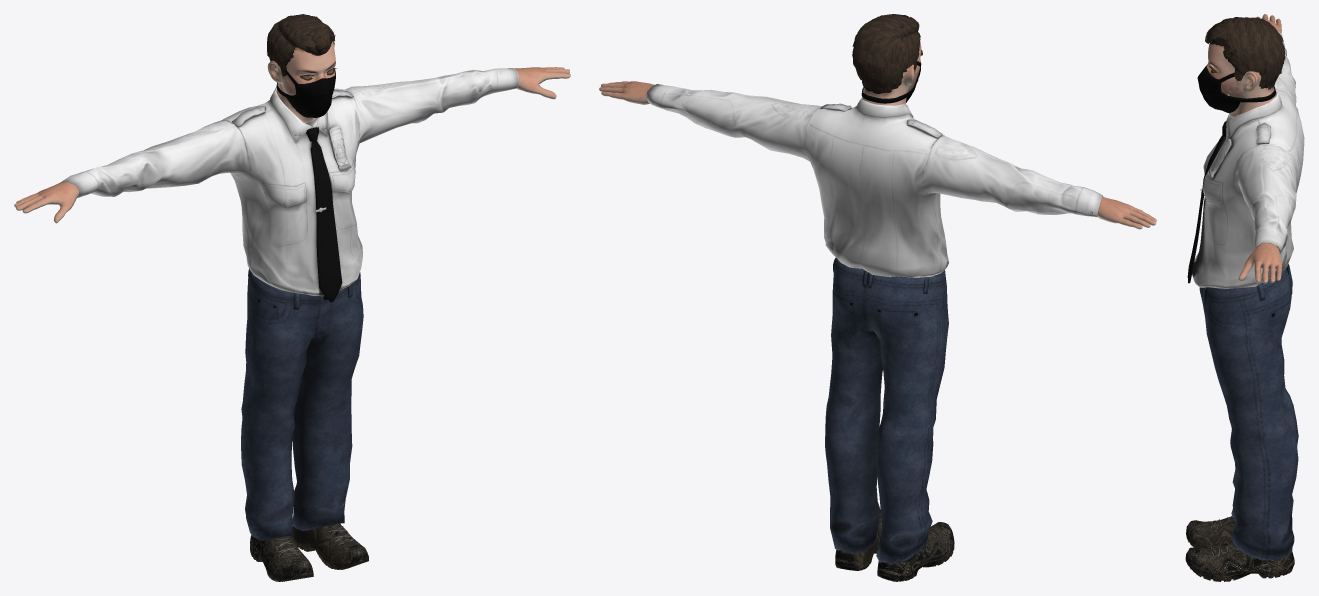
The model's file is karakter.obj.
3 views of the same model, side by side, from view 1: azimuth 30°, elevation 25°; view 2: azimuth 150°, elevation 25°; view 3: azimuth 270°, elevation 25° (orthographic).
Parts seen in each view (by area): view 1: Tops, Bottoms, Body, Shoes, Hair, Masks; view 2: Tops, Bottoms, Hair, Body, Shoes; view 3: Bottoms, Tops, Shoes, Hair, Body, Masks.
Part boxes in pixels (x1,y1,x2,y2): Tops: (62, 68, 519, 302); Bottoms: (241, 268, 363, 540); Body: (14, 32, 570, 223); Shoes: (250, 523, 368, 581); Hair: (267, 14, 335, 76); Masks: (276, 69, 335, 117); Tops: (646, 84, 1102, 277); Bottoms: (825, 257, 948, 564); Hair: (852, 14, 920, 93); Body: (599, 34, 1156, 229); Shoes: (835, 509, 954, 581); Bottoms: (1199, 264, 1298, 560); Tops: (1187, 30, 1304, 288); Shoes: (1185, 515, 1294, 581); Hair: (1205, 17, 1285, 89); Body: (1206, 14, 1281, 283); Masks: (1197, 65, 1275, 112).
Size of the model in its own units: 189 by 176 by 35.19.
Materials: 7 (7 with a texture image).
